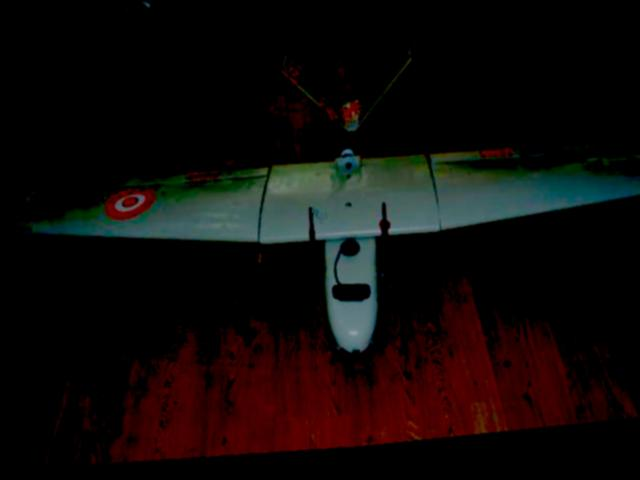iha: (3, 6, 640, 401)
